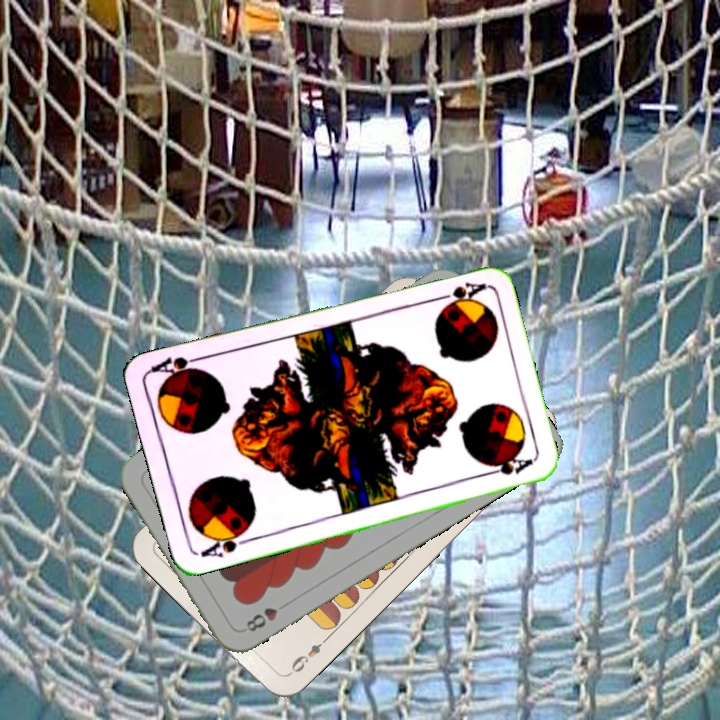E9: (284, 633, 331, 679)
H8: (242, 603, 280, 635)
SA: (196, 525, 254, 560), (429, 277, 488, 309)
